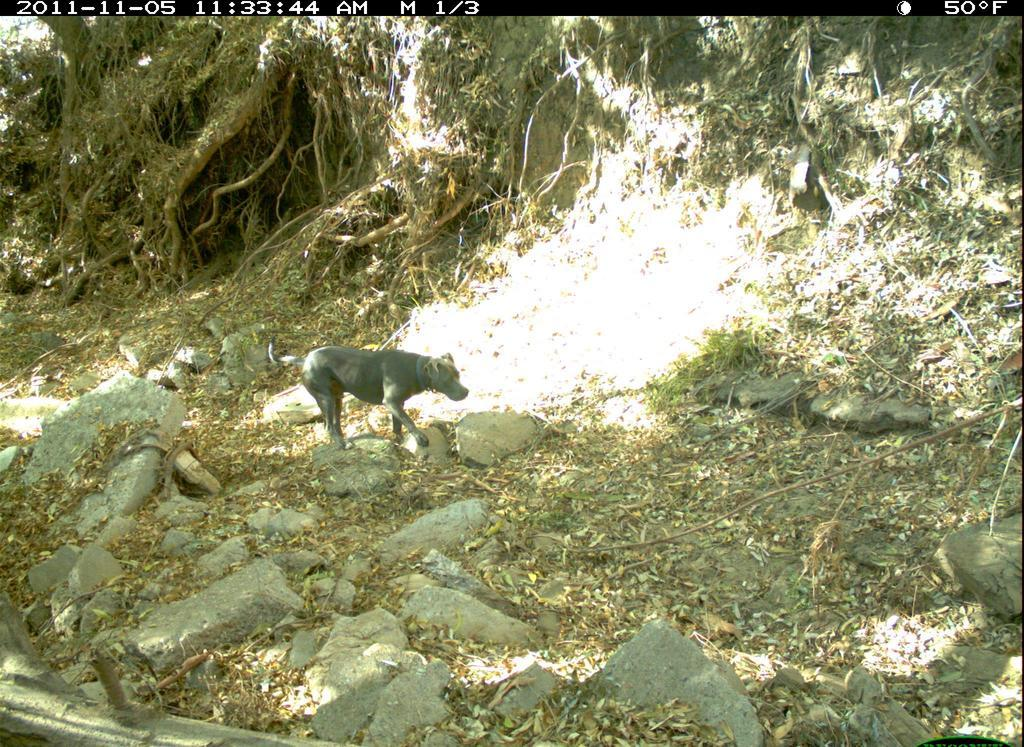dog: (262, 333, 470, 451)
